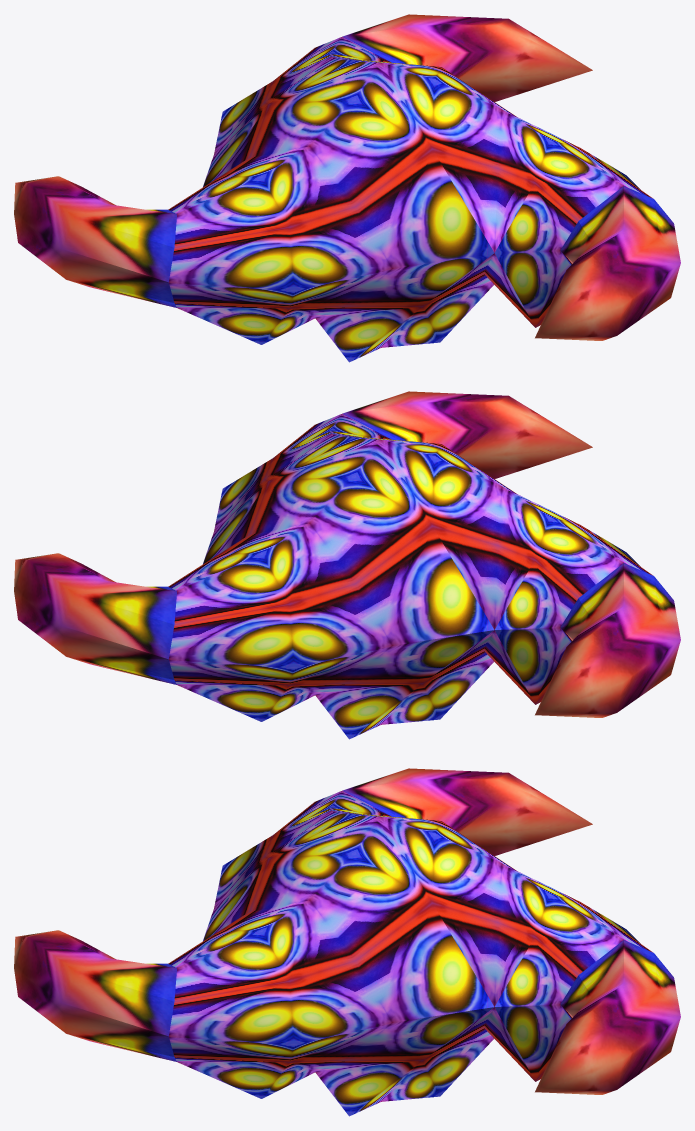
Rendered from ufo-18.fbx.
The picture shows the model from 3 angles, top to bottom: view 1: azimuth 30°, elevation 25°; view 2: azimuth 150°, elevation 25°; view 3: azimuth 270°, elevation 25°; orthographic projection.
Parts seen in each view (by area): view 1: ufo-18; view 2: ufo-18; view 3: ufo-18.
Part boxes in pixels (x1,y1,x2,y2): ufo-18: (14,14,680,362); ufo-18: (14,391,680,739); ufo-18: (14,768,680,1116).
Size of the model in its own units: 56.88 by 25.9 by 54.91.
